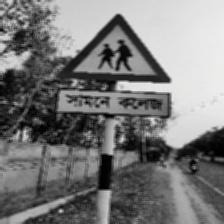College-in-front: (67, 18, 157, 130)
